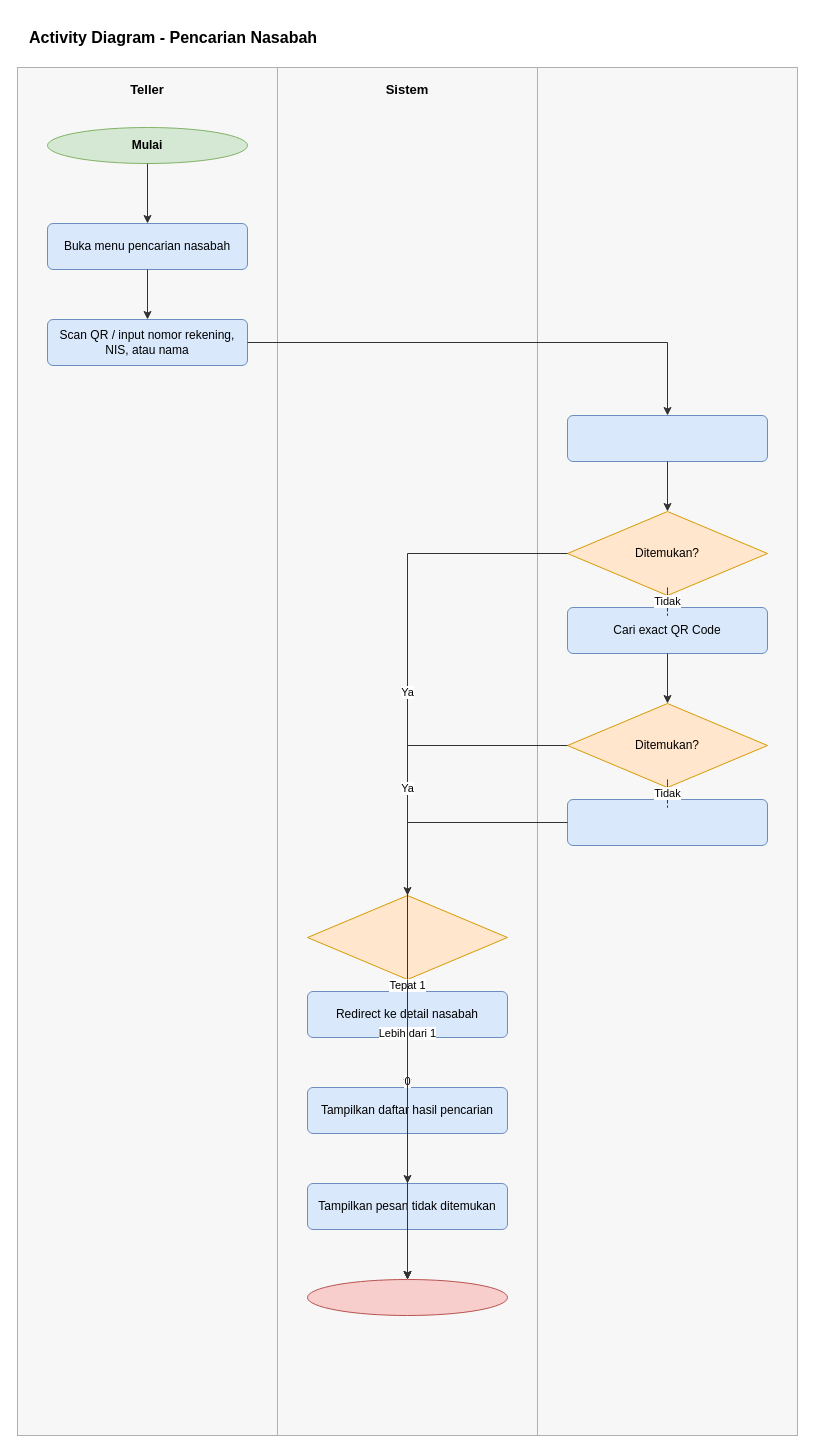
The diagram is 815 pixels wide and 1453 high, and some of its shapes have lost their labels. Here are the shapes that lost their labels. From the top down, the box of each, then its label:
(566, 414, 768, 462): Cari exact nomor rekening
(536, 66, 798, 1436): Database
(566, 798, 768, 846): Pencarian parsial (like)
(306, 894, 508, 980): Jumlah hasil?
(306, 1278, 508, 1316): Selesai
